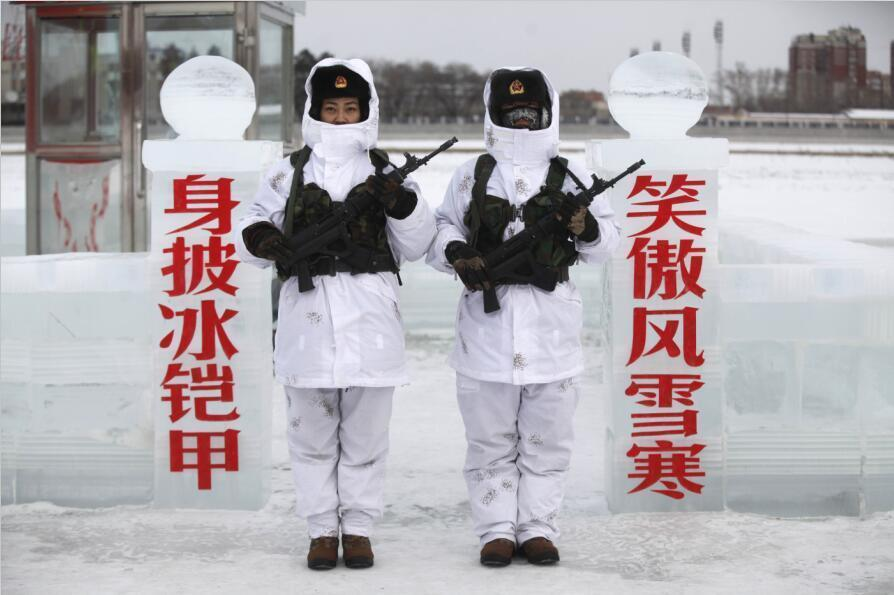up: (235, 36, 434, 572), (436, 54, 623, 567)
